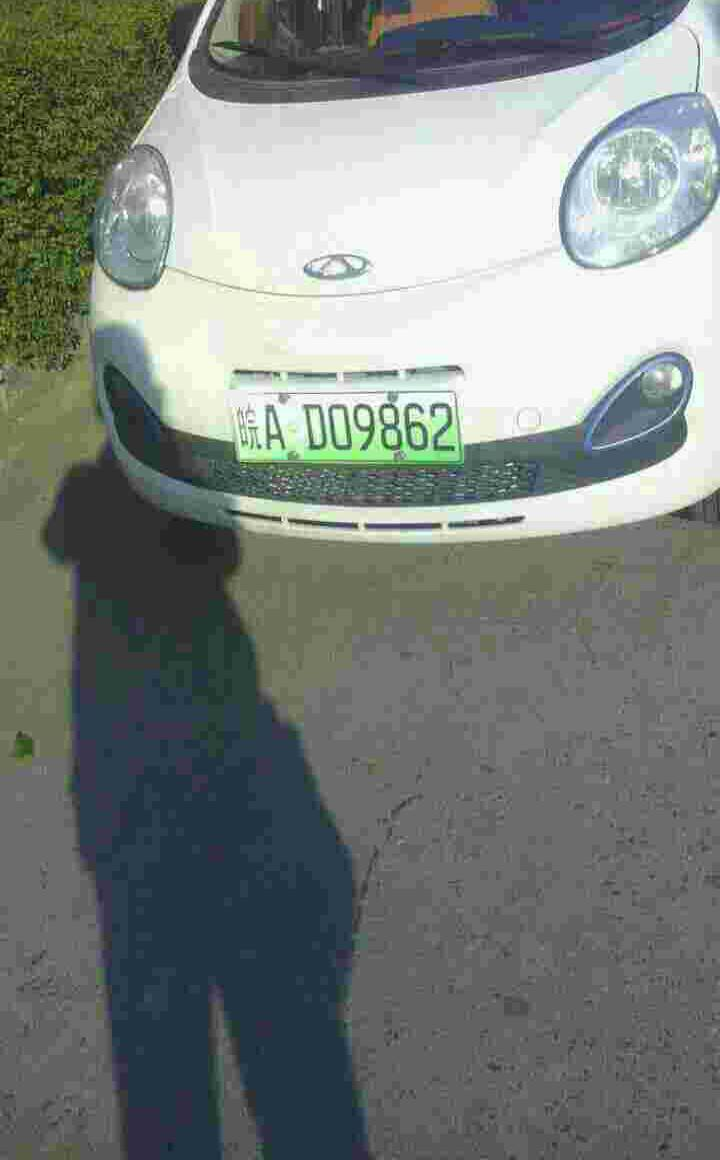car: (231, 383, 465, 473)
